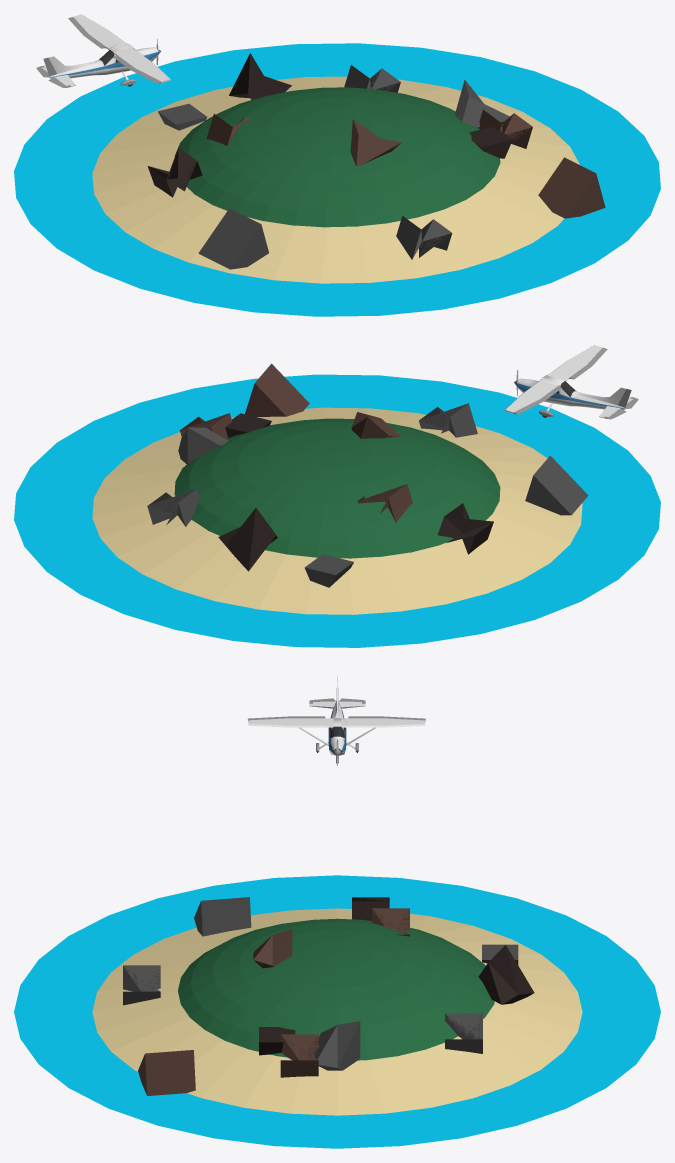
File: island.glb
3 views of the same model, one above another, from view 1: azimuth 30°, elevation 25°; view 2: azimuth 150°, elevation 25°; view 3: azimuth 270°, elevation 25° (orthographic).
Parts seen in each view (by area): view 1: Circle, Sphere, Sphere.001, Body_Plane_0, rock.008, rock.003, rock.009, rock.004, rock.007, rock.005, rock.001, rock.002 (+4 smaller); view 2: Circle, Sphere, Sphere.001, Body_Plane_0, rock.008, rock.003, rock.004, rock.007, rock.009, rock.006, rock.001, rock.011 (+4 smaller); view 3: Circle, Sphere, Sphere.001, Body_Plane_0, rock.003, rock.004, rock.001, rock.008, rock.002, rock.009, rock.006, rock.005 (+3 smaller).
Boxes of the visible parts, x1,y1,x2,y2 form: Circle: (14,43,660,316); Sphere: (92,76,579,283); Sphere.001: (174,87,500,227); Body_Plane_0: (48,14,170,85); rock.008: (198,208,268,269); rock.003: (538,157,605,218); rock.009: (396,216,452,259); rock.004: (229,53,291,99); rock.007: (147,147,202,197); rock.005: (350,119,401,166); rock.001: (455,79,509,127); rock.002: (479,109,532,148); Circle: (14,374,660,647); Sphere: (92,407,582,614); Sphere.001: (174,418,500,558); Body_Plane_0: (504,345,626,416); rock.008: (525,455,588,515); rock.003: (245,363,309,416); rock.004: (218,508,277,571); rock.007: (437,503,493,554); rock.009: (419,403,477,437); rock.006: (147,489,199,526); rock.001: (178,427,228,464); rock.011: (304,554,353,587); Circle: (14,875,660,1148); Sphere: (92,908,582,1115); Sphere.001: (178,918,494,1060); Body_Plane_0: (248,678,425,762); rock.003: (138,1050,195,1095); rock.004: (478,944,534,1004); rock.001: (314,1021,360,1070); rock.008: (194,897,251,936); rock.002: (280,1034,318,1077); rock.009: (123,965,160,1005); rock.006: (445,1013,482,1053); rock.005: (253,929,292,968).
Size of the model in its own units: 40.96 by 13.74 by 40.
7 materials, 1 textured.
